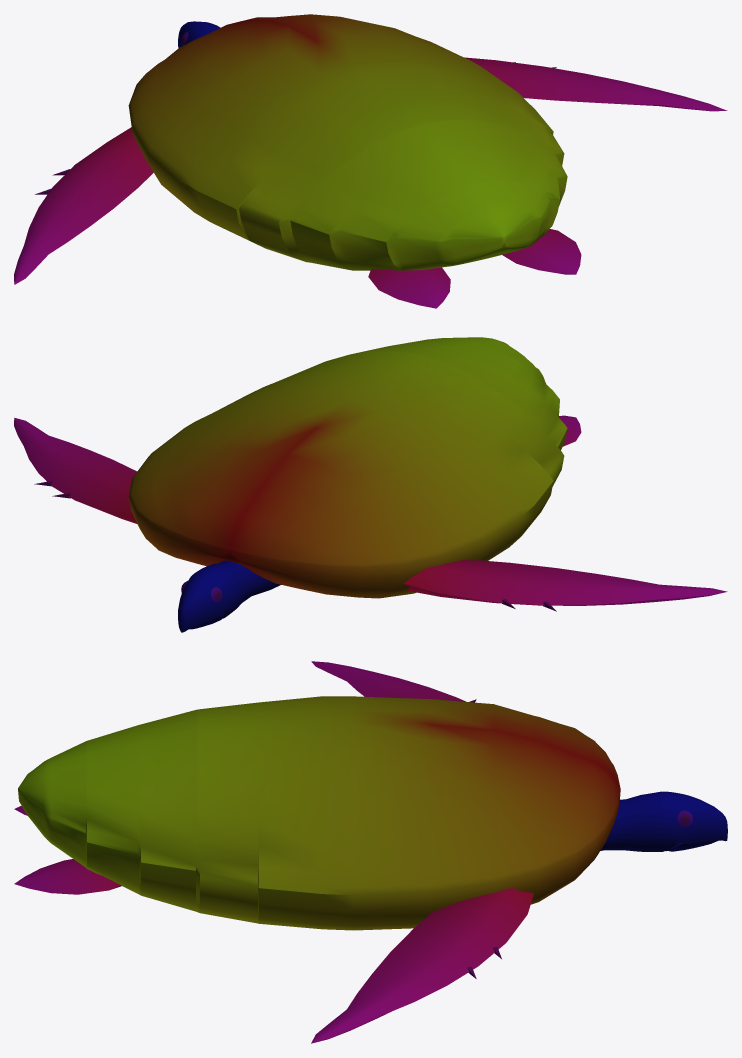
Rendered from sea_turtle_hawksbill_game.glb.
The picture shows the model from 3 angles, top to bottom: view 1: azimuth 30°, elevation 25°; view 2: azimuth 150°, elevation 25°; view 3: azimuth 270°, elevation 25°; orthographic projection. The views are drawn at different scales.
Parts seen in each view (by area): view 1: sea_turtle_hawksbill_game; view 2: sea_turtle_hawksbill_game; view 3: sea_turtle_hawksbill_game.
Part boxes in pixels (x1,y1,x2,y2): sea_turtle_hawksbill_game: [14, 14, 727, 308]; sea_turtle_hawksbill_game: [14, 337, 727, 632]; sea_turtle_hawksbill_game: [14, 661, 727, 1043].
Size of the model in its own units: 1.35 by 0.2396 by 1.07.
